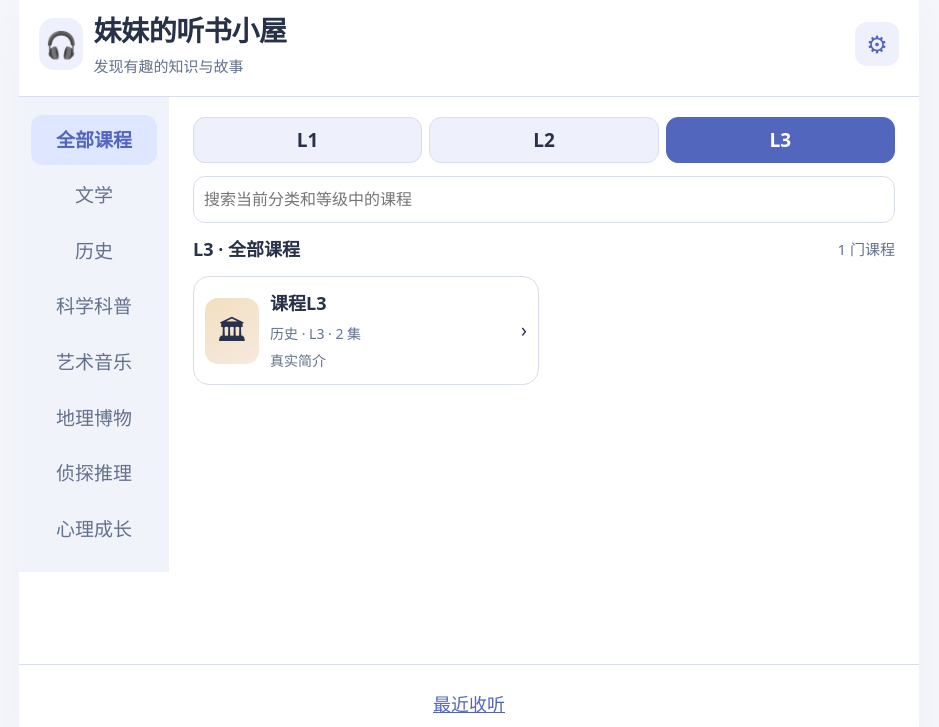
Test: partially heard course shows progress before the first episode completes
The width and height of the screenshot is (939, 727).
Click the link "🏛 课程L3 历史 · L3 · 2 集 真实简介 ›" at (232, 331), box [193,276,539,385]
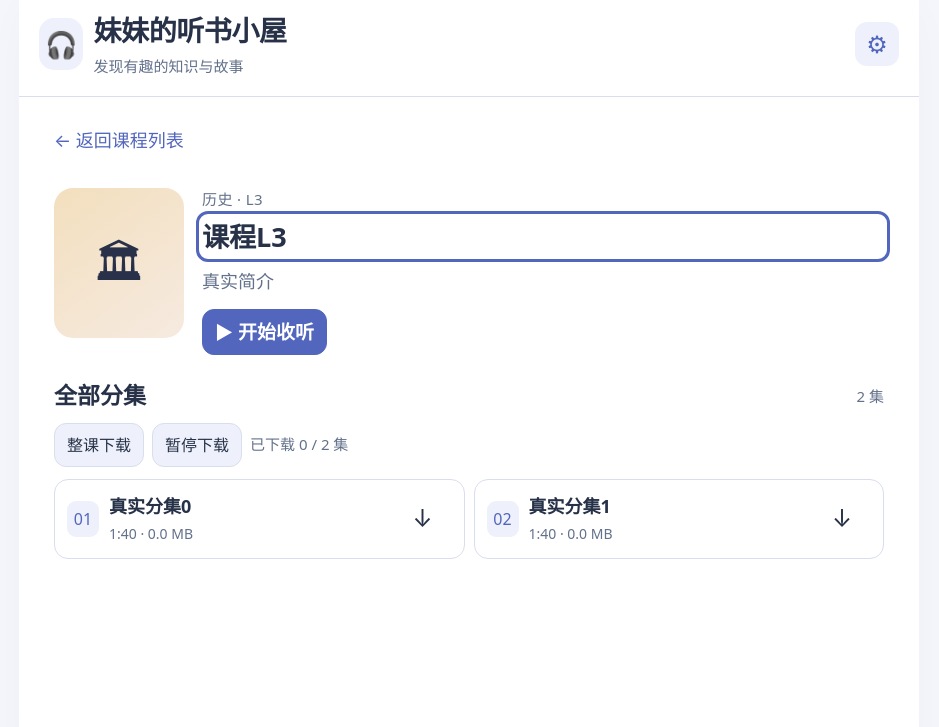
Click the button with aria-label "播放 真实分集0" at (83, 519), box [60,485,382,553]
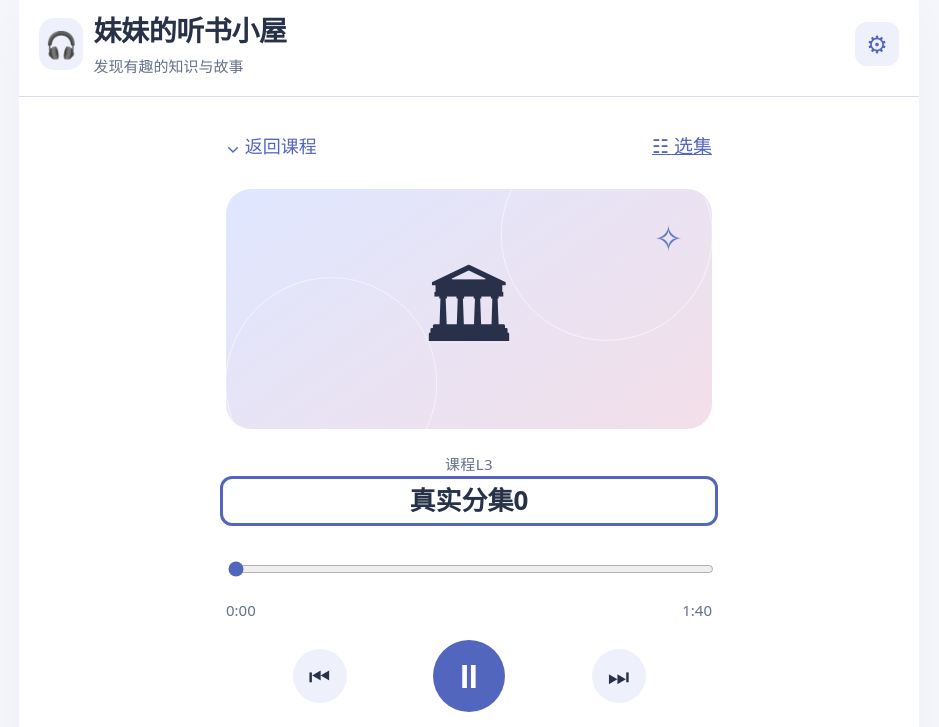
Expected: the button named "暂停" is shown, [433,640,505,712]
Set the slider named "播放进度" to "30" at (377, 569), box [228,547,714,591]
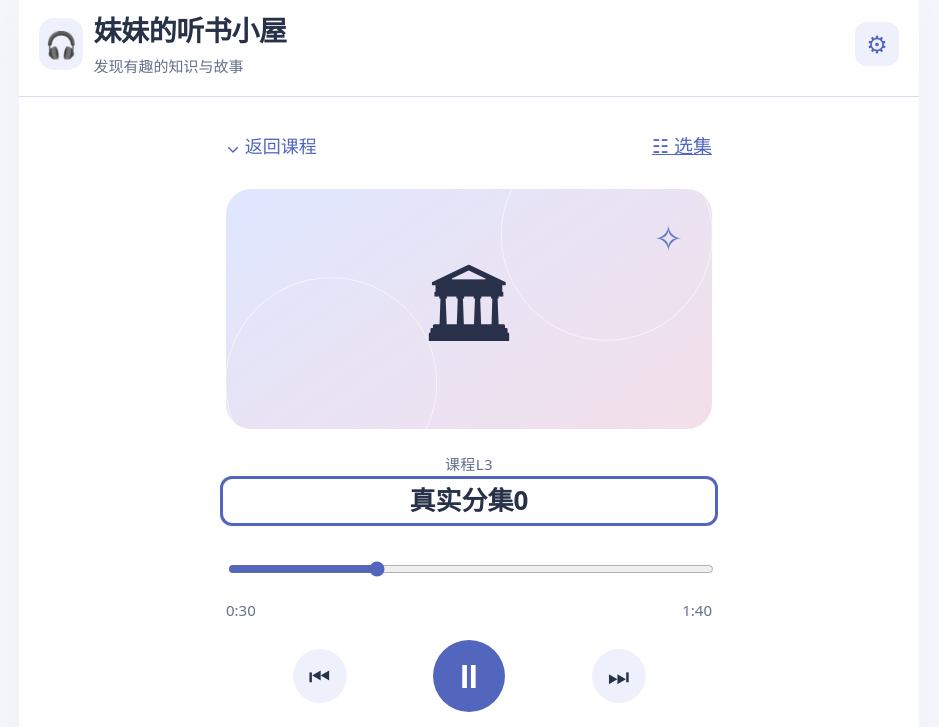
Click the link "⌄ 返回课程" at (271, 146), box [226,134,317,158]
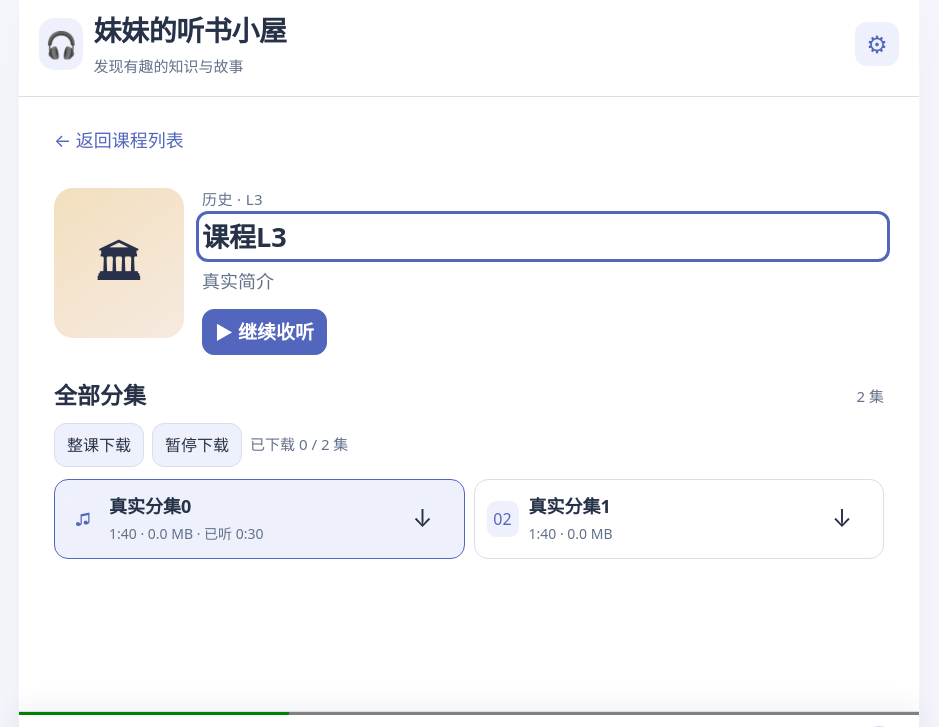
Click the link "← 返回课程列表" at (119, 140), box [54,128,184,152]
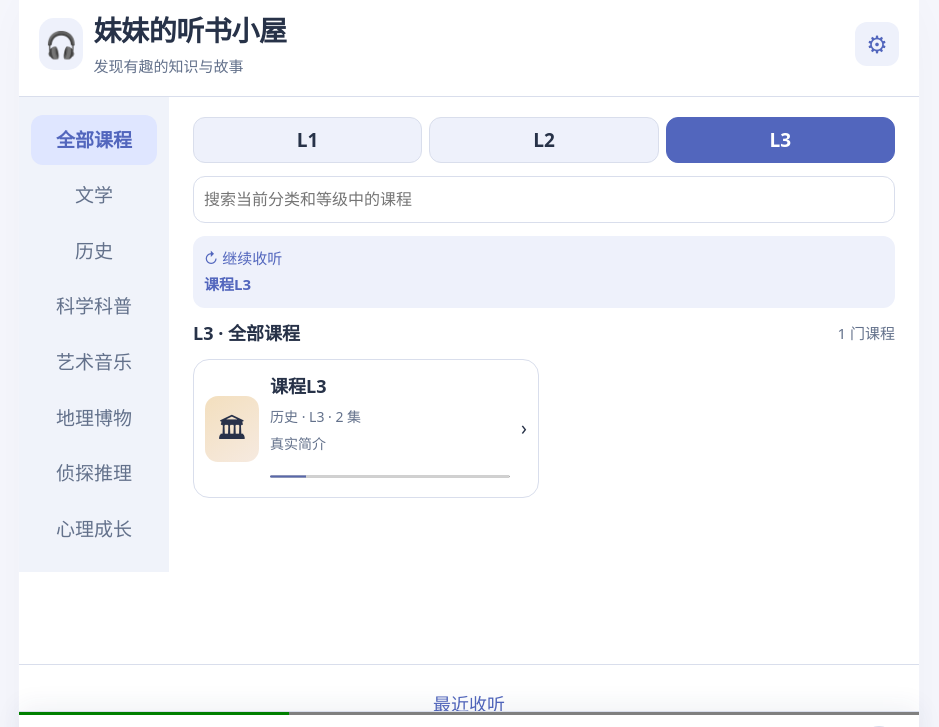
Expected: the progress indicator named "播放进度" below "真实简介" is shown, [270,474,510,480]
